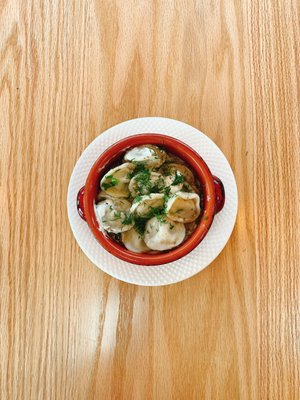curry: (128, 166, 153, 199), (100, 175, 120, 190)
sushi: (72, 132, 221, 267)
